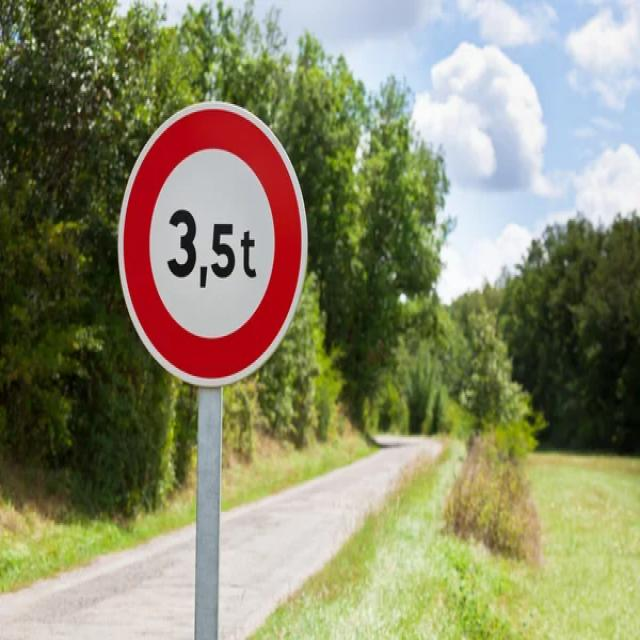forbidden: (115, 102, 309, 387)
